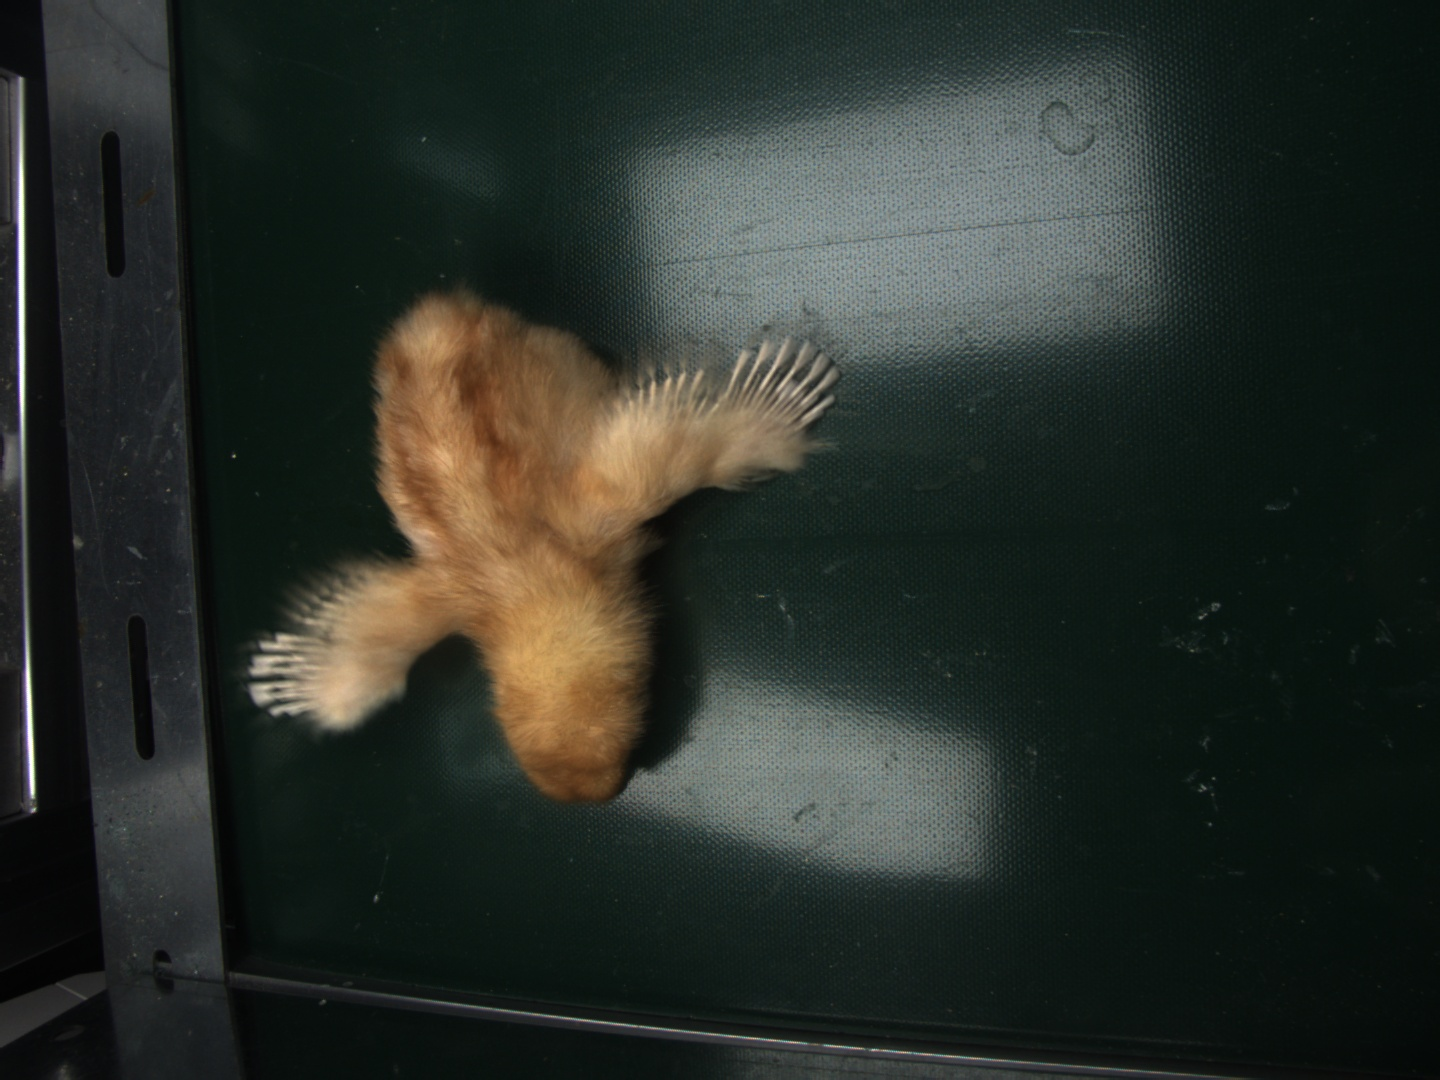female: (727, 335, 842, 424)
